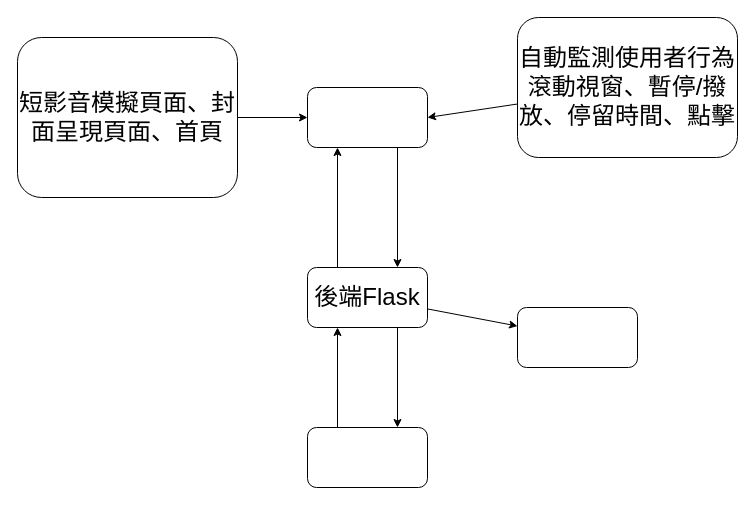
The diagram is 755 pixels wide and 505 high, and some of its shapes have lost their labels. The shapes that lost their labels are listed below. From the top down, each one's centre as x and y in pixels, then its label:
the point at 367,117: 前端
the point at 367,457: JSON資料儲存
